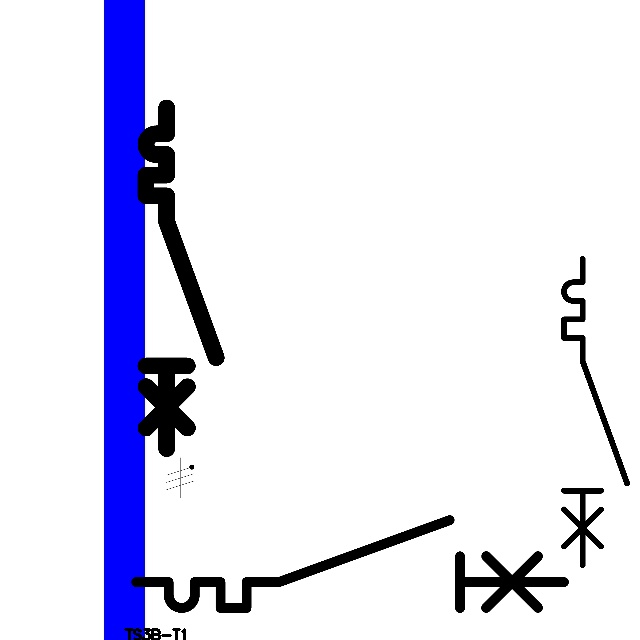interruptor_termomagnetico: (125, 509, 575, 619), (137, 99, 224, 457), (556, 251, 634, 573)
